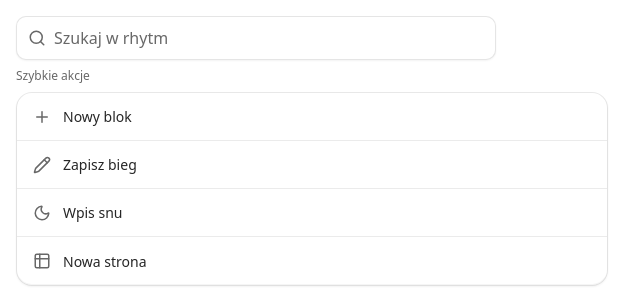
Test: SearchView › brak wyników: pusty stan z frazą
Type "xyz" into the search field labelled "Szukaj" at (269,38), box [54, 17, 484, 59]
Wait 250 ms
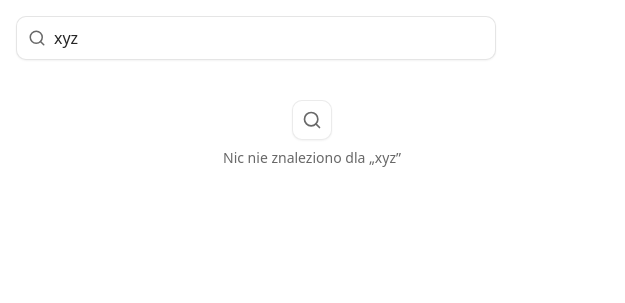
Expected: the text "Nic nie znaleziono dla „xyz”" is shown, [223, 148, 401, 168]
Expected: the text "Szybkie akcje" is gone
